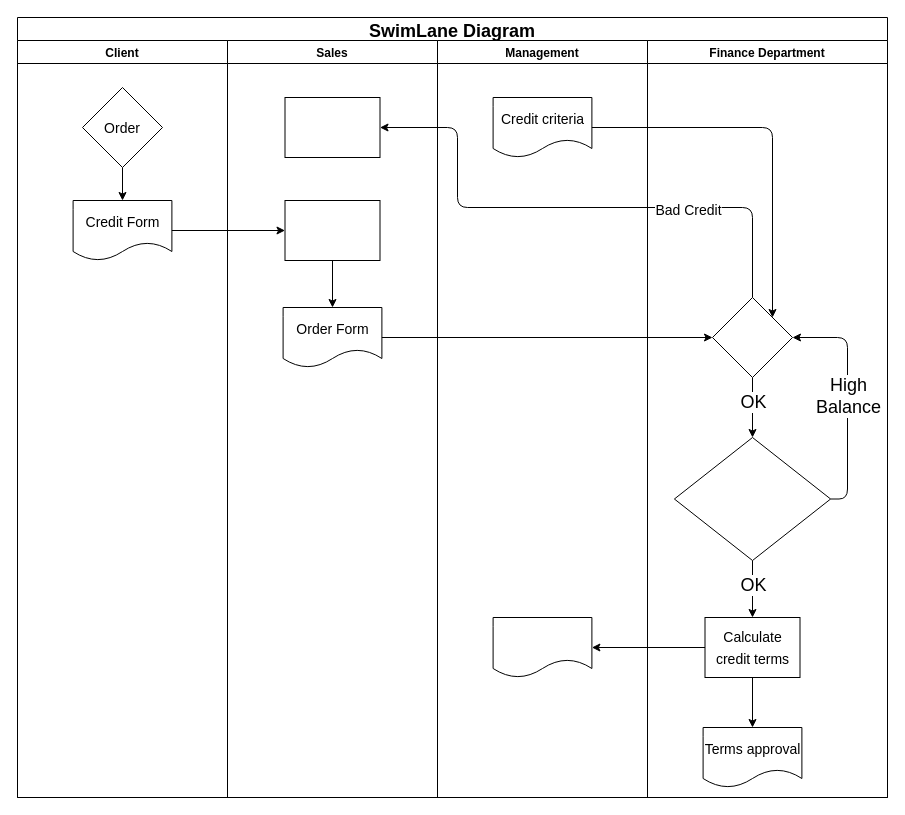
The diagram is 905 pixels wide and 815 high, and some of its shapes have lost their labels. Each missing label, with the centre of its shape:
"Credit Check" goes at pixel 752 337.
"Credit Report" goes at pixel 542 647.
"Preview accounts recievable balances" goes at pixel 752 498.
"Recive Order" goes at pixel 332 230.
"Sales Call" goes at pixel 332 127.
